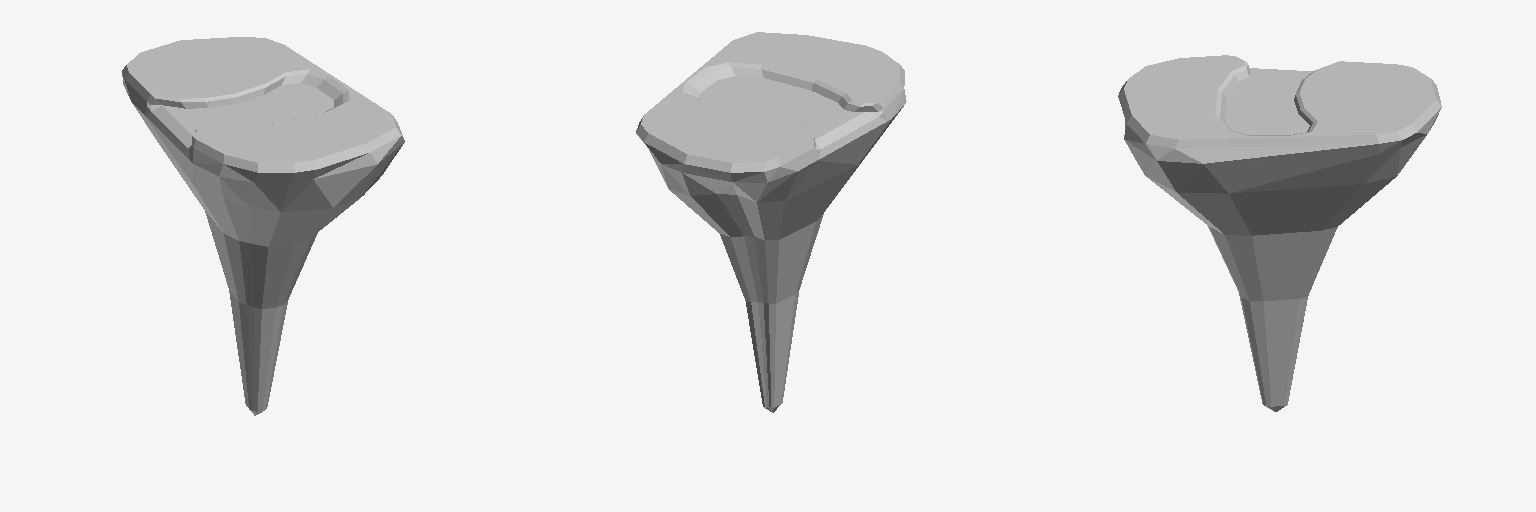
File: MainIsland.obj
3 renders of one model, left to right at view 1: azimuth 30°, elevation 25°; view 2: azimuth 150°, elevation 25°; view 3: azimuth 270°, elevation 25°, orthographic.
Parts seen in each view (by area): view 1: Cube_Cube.001; view 2: Cube_Cube.001; view 3: Cube_Cube.001.
Boxes of the visible parts, x1=… form: Cube_Cube.001: x1=122, y1=37, x2=404, y2=415; Cube_Cube.001: x1=636, y1=32, x2=906, y2=412; Cube_Cube.001: x1=1118, y1=55, x2=1441, y2=411.
Size of the model in its own units: 104 by 168 by 156.